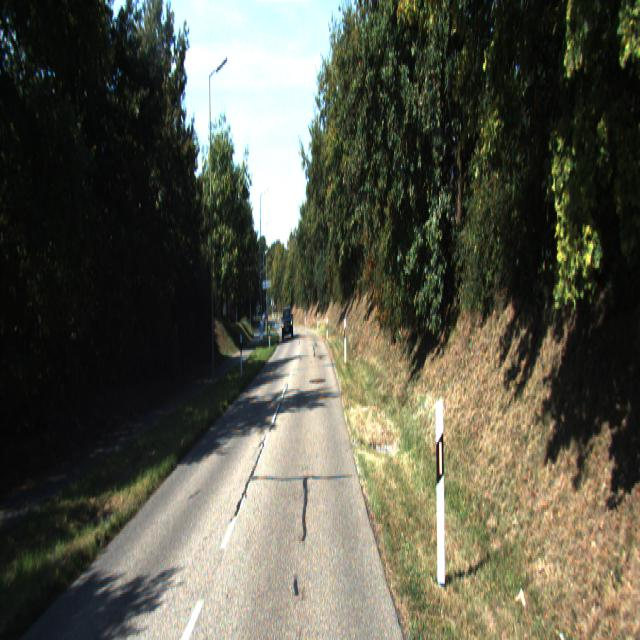Car: (280, 304, 294, 345)
